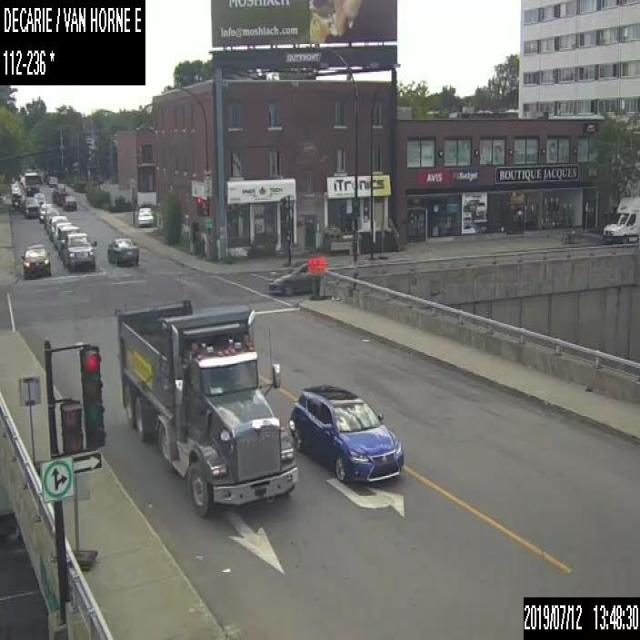construction: (16, 374, 43, 480), (69, 471, 97, 570), (306, 255, 316, 298), (318, 256, 326, 298)
vehicle: (116, 298, 296, 517), (289, 384, 402, 484), (268, 260, 322, 295), (601, 193, 639, 242), (62, 232, 96, 270), (21, 243, 50, 277), (107, 235, 139, 264), (57, 223, 79, 255), (46, 214, 67, 240), (54, 220, 72, 245), (23, 172, 40, 195), (24, 196, 40, 217), (137, 206, 153, 226), (45, 208, 59, 228), (62, 194, 76, 210), (38, 203, 50, 221), (33, 191, 45, 206), (56, 190, 67, 204), (48, 175, 58, 185), (52, 189, 57, 201), (57, 183, 64, 191)
